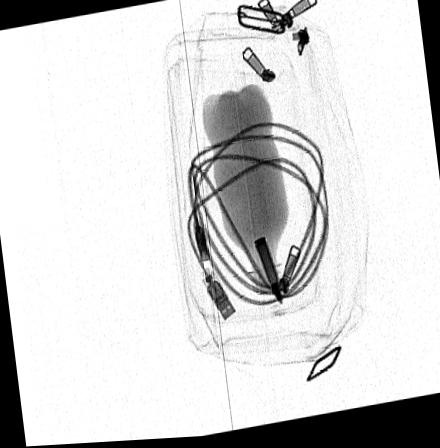Bullet: (252, 238, 282, 309)
